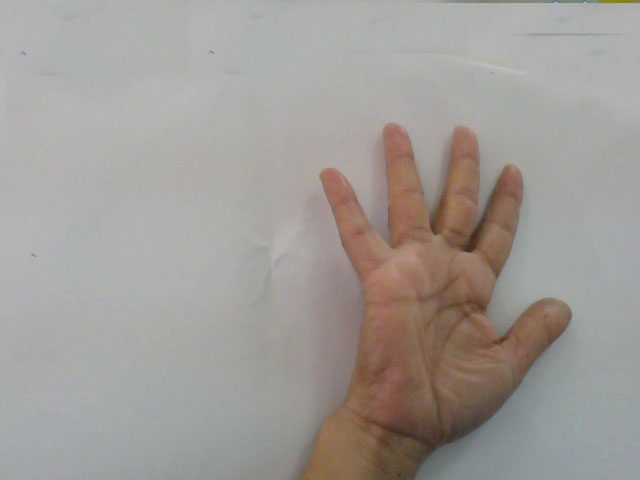hand: (299, 106, 587, 416)
